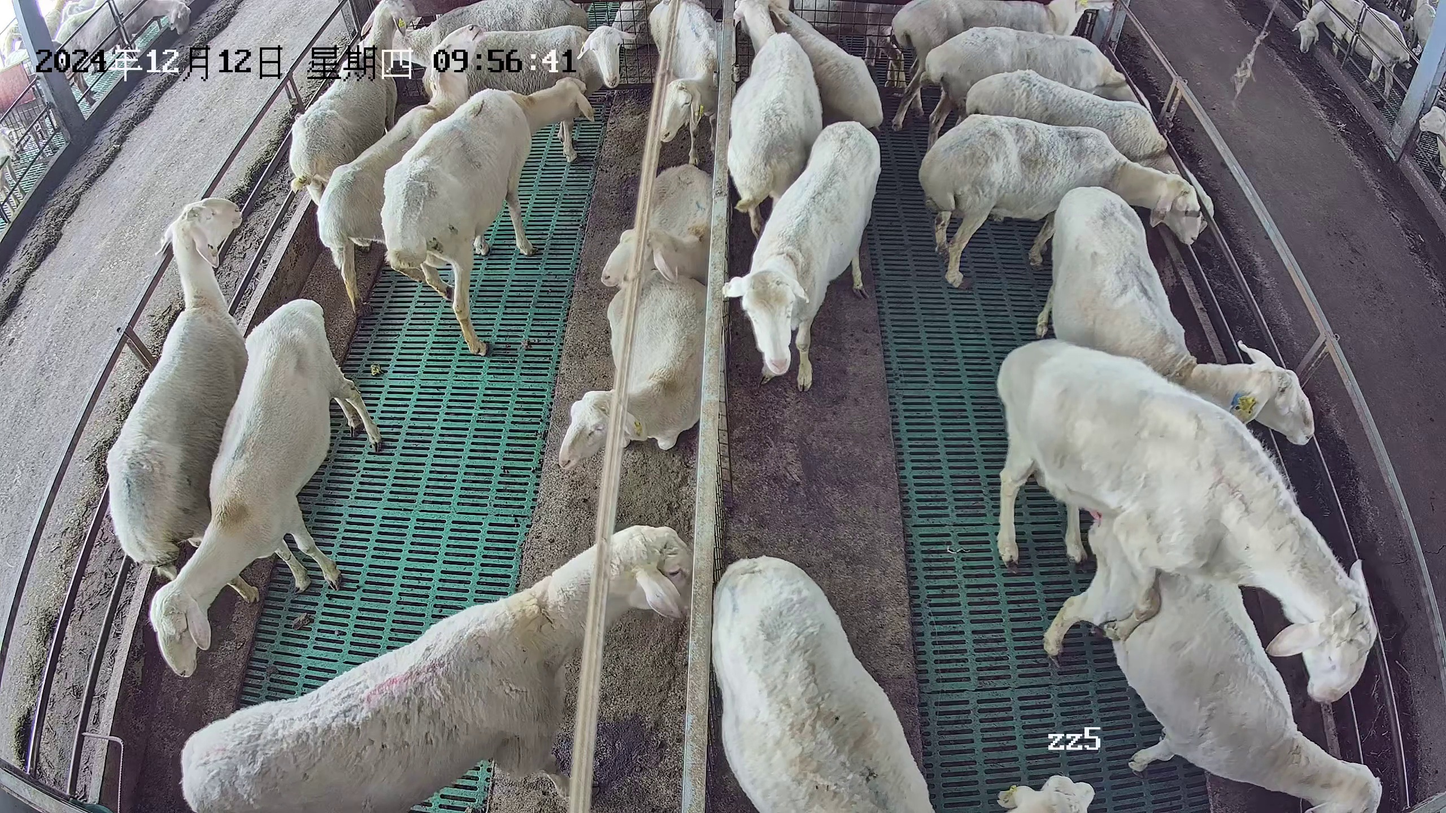Smounting: (994, 336, 1387, 813)
mounted: (1043, 509, 1383, 813)
